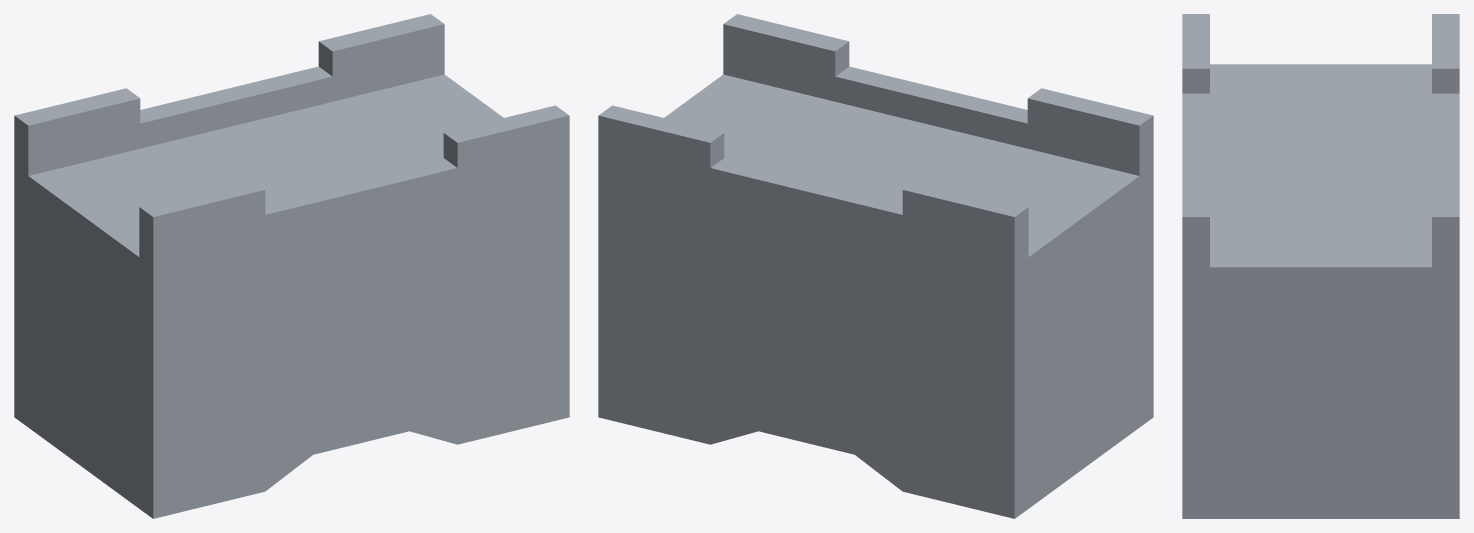
File: wall_top_arch.fbx
3 views of the same model, side by side, from view 1: azimuth 30°, elevation 25°; view 2: azimuth 150°, elevation 25°; view 3: azimuth 270°, elevation 25° (orthographic).
Visible parts, largest first — view 1: Cylinder; view 2: Cylinder; view 3: Cylinder.
Boxes of the visible parts, x1,y1,x2,y2 form: Cylinder: [14, 14, 569, 518]; Cylinder: [598, 14, 1153, 518]; Cylinder: [1182, 14, 1459, 518].
Size of the model in its own units: 1.73 by 1.2 by 1.
